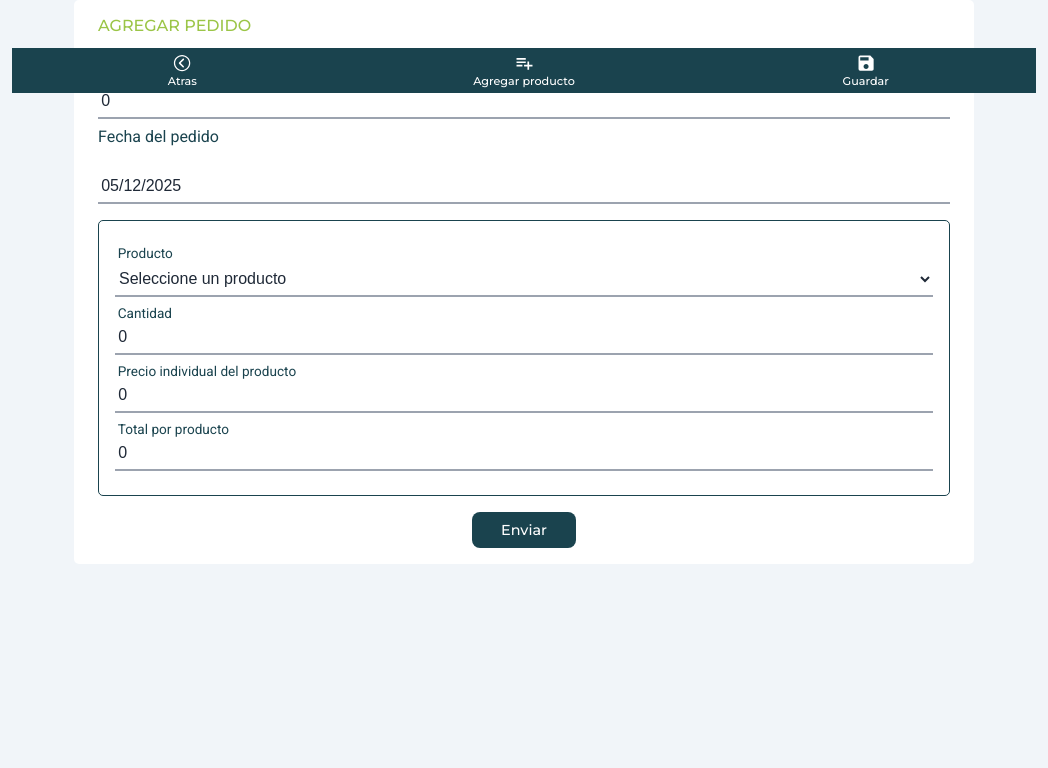
AddEditOrderPage › Add Order Mode › handles API errors when creating order
The width and height of the screenshot is (1048, 768).
Select "Wolf Snack Mix Bolsa 500" in the dropdown labelled "Producto": [524, 279] box [115,261,933,297]
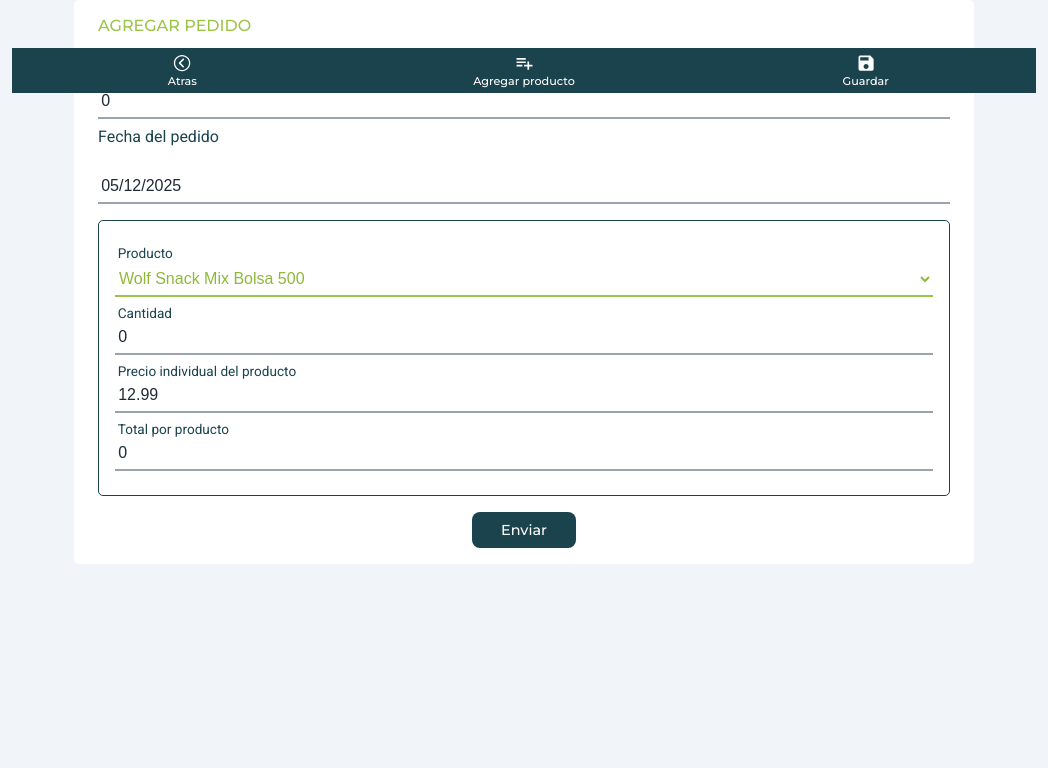
// Set quantity
In the number field labelled "Cantidad": [524, 338] box [115,321,933,355], type "2"
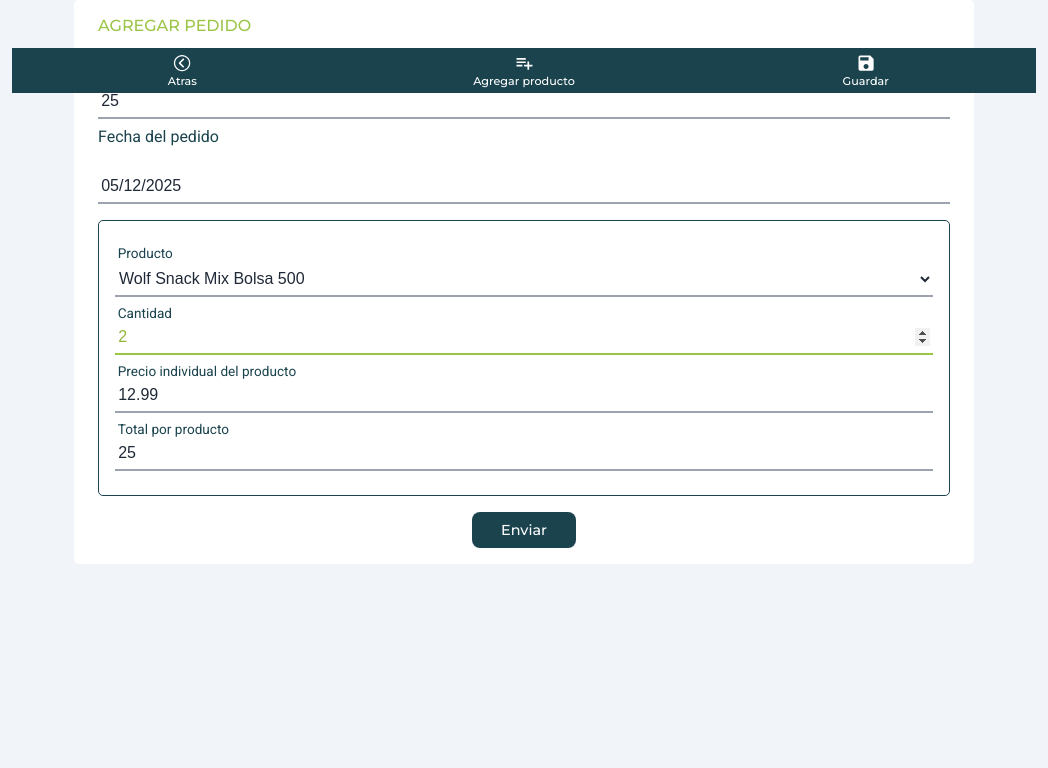
Click the button "Guardar": [866, 70] box [695,48,1036,93]
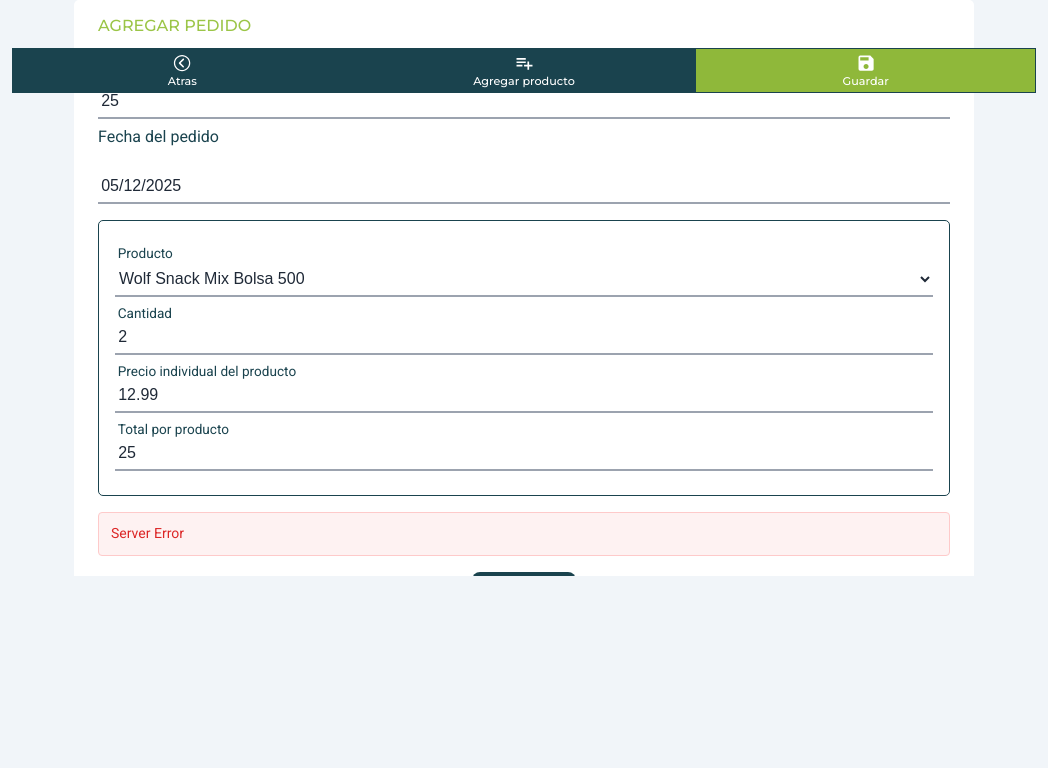
Check: the text "Server Error" is shown, box [98,512,950,556]
